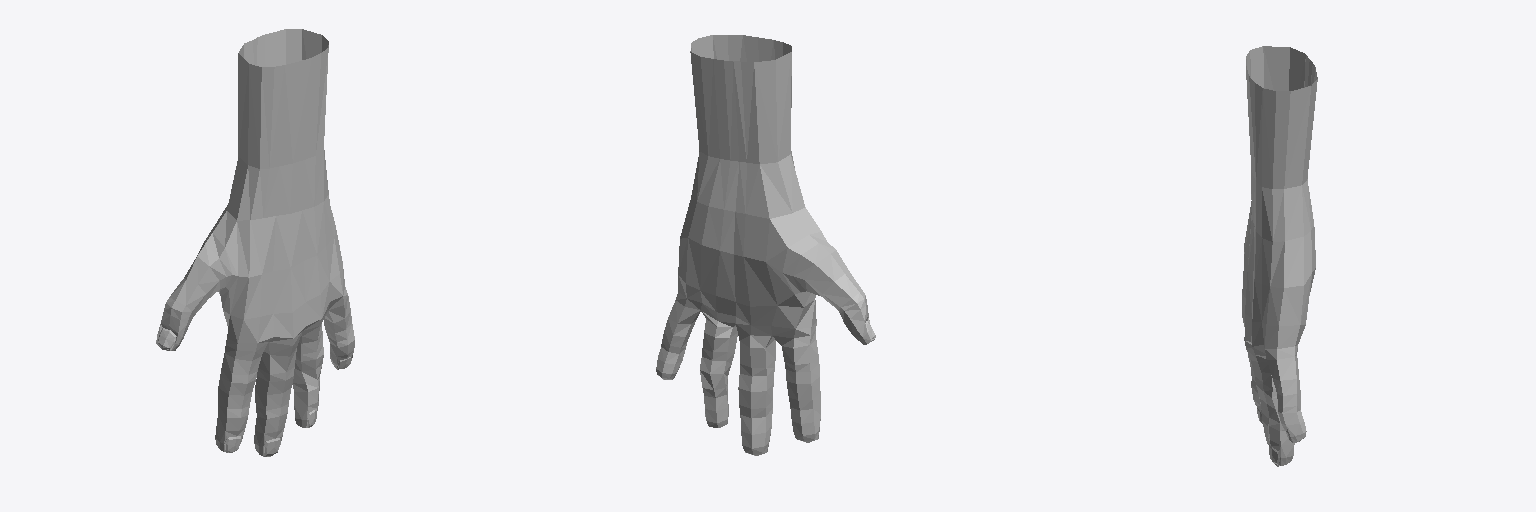
Rendered from handAnimated4_000001.obj.
3 renders of one model, left to right at view 1: azimuth 30°, elevation 25°; view 2: azimuth 150°, elevation 25°; view 3: azimuth 270°, elevation 25°, orthographic.
Visible parts, largest first — view 1: Cube.000_Cube.017_Detached_Detached; view 2: Cube.000_Cube.017_Detached_Detached; view 3: Cube.000_Cube.017_Detached_Detached.
Part boxes in pixels (bbox=[...]): Cube.000_Cube.017_Detached_Detached: bbox=[156, 29, 354, 456]; Cube.000_Cube.017_Detached_Detached: bbox=[656, 35, 875, 455]; Cube.000_Cube.017_Detached_Detached: bbox=[1242, 46, 1317, 466].
Size of the model in its own units: 0.7066 by 1.34 by 0.2274.